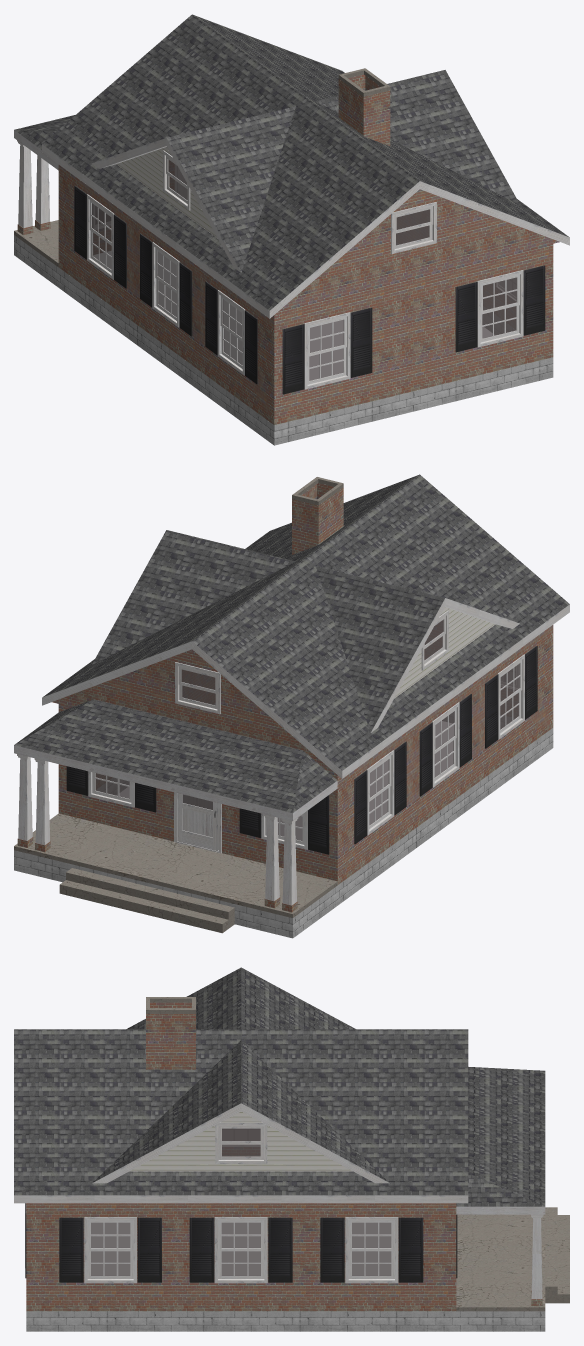
Rendered from brick_bungalow.glb.
The picture shows the model from 3 angles, top to bottom: view 1: azimuth 30°, elevation 25°; view 2: azimuth 150°, elevation 25°; view 3: azimuth 270°, elevation 25°; orthographic projection.
Parts seen in each view (by area): view 1: Material2 (×8); view 2: Material2 (×8); view 3: Material2 (×8).
Part boxes in pixels (bbox=[...]): Material2 (×8): bbox=[14, 14, 569, 445]; Material2 (×8): bbox=[14, 474, 569, 938]; Material2 (×8): bbox=[14, 967, 569, 1331].
Size of the model in its own units: 310 by 269 by 498.
14 materials, 8 textured.
